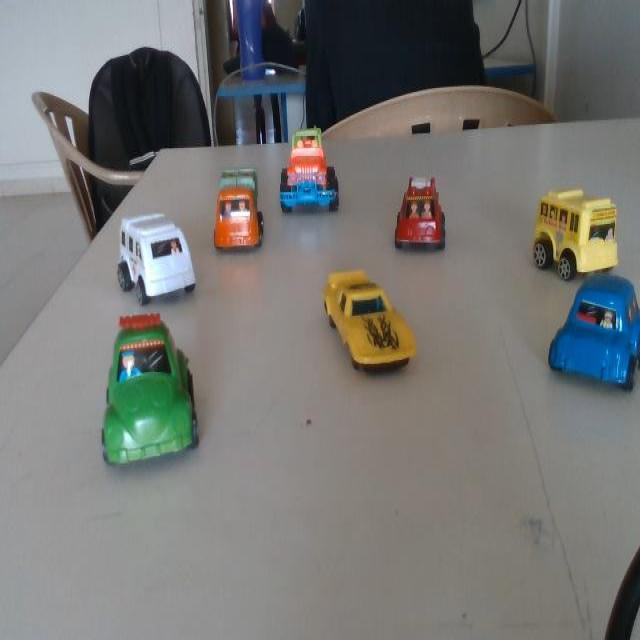car: (29, 282, 242, 538), (284, 256, 440, 399), (99, 196, 207, 330), (555, 277, 639, 387), (275, 115, 356, 217), (522, 192, 605, 288), (203, 153, 268, 268), (385, 171, 447, 260)
